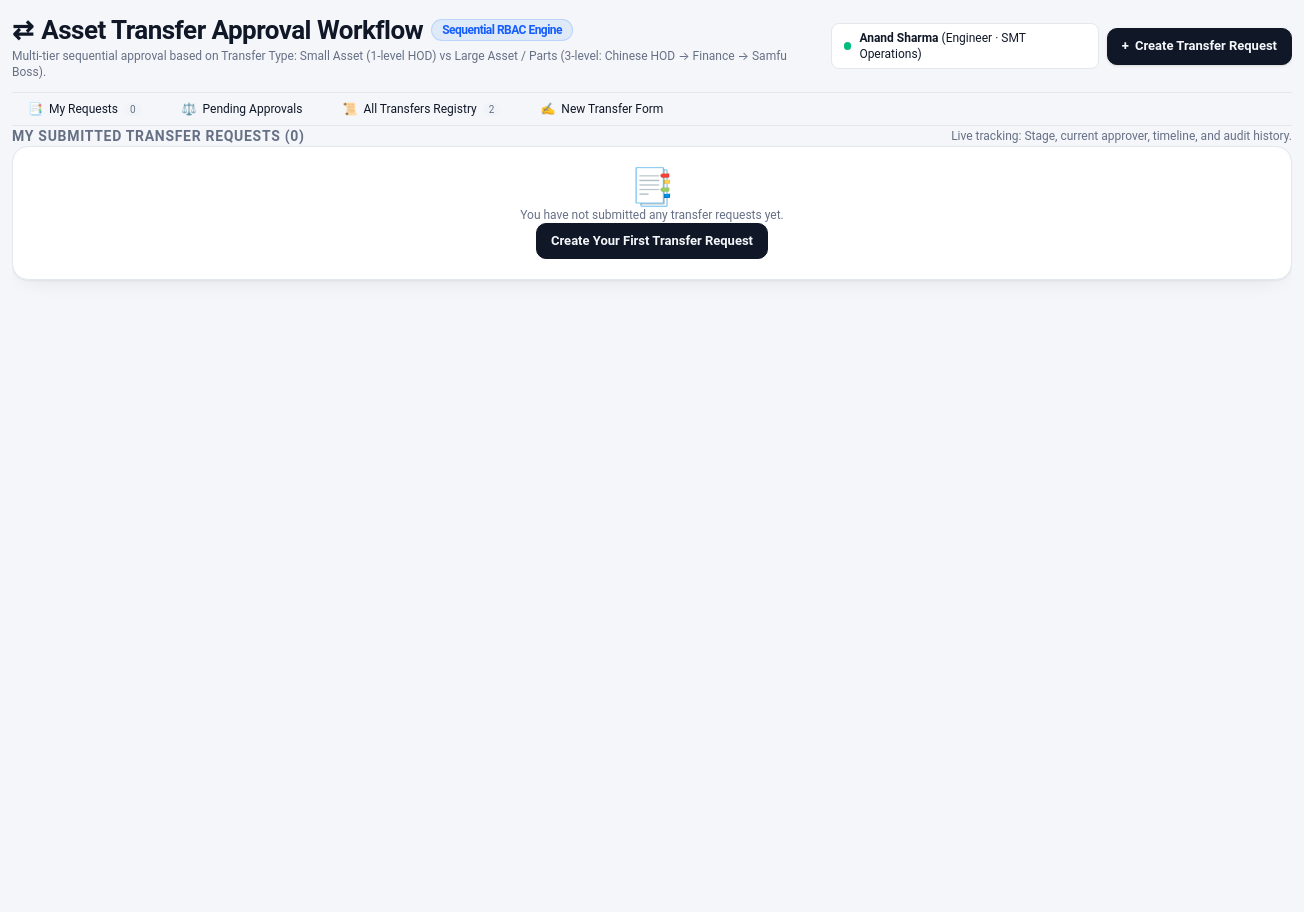
Test: Multi-User Role Asset Transfer Simulation › Flow 2: Large Asset 3-Level Sequential Approval (Requester -> Chinese HOD -> Finance -> Samfu Boss)
Later steps or results of the test are not shown.
Click the button "✍️ New Transfer Form" at point(602, 109), box [524,93,679,125]
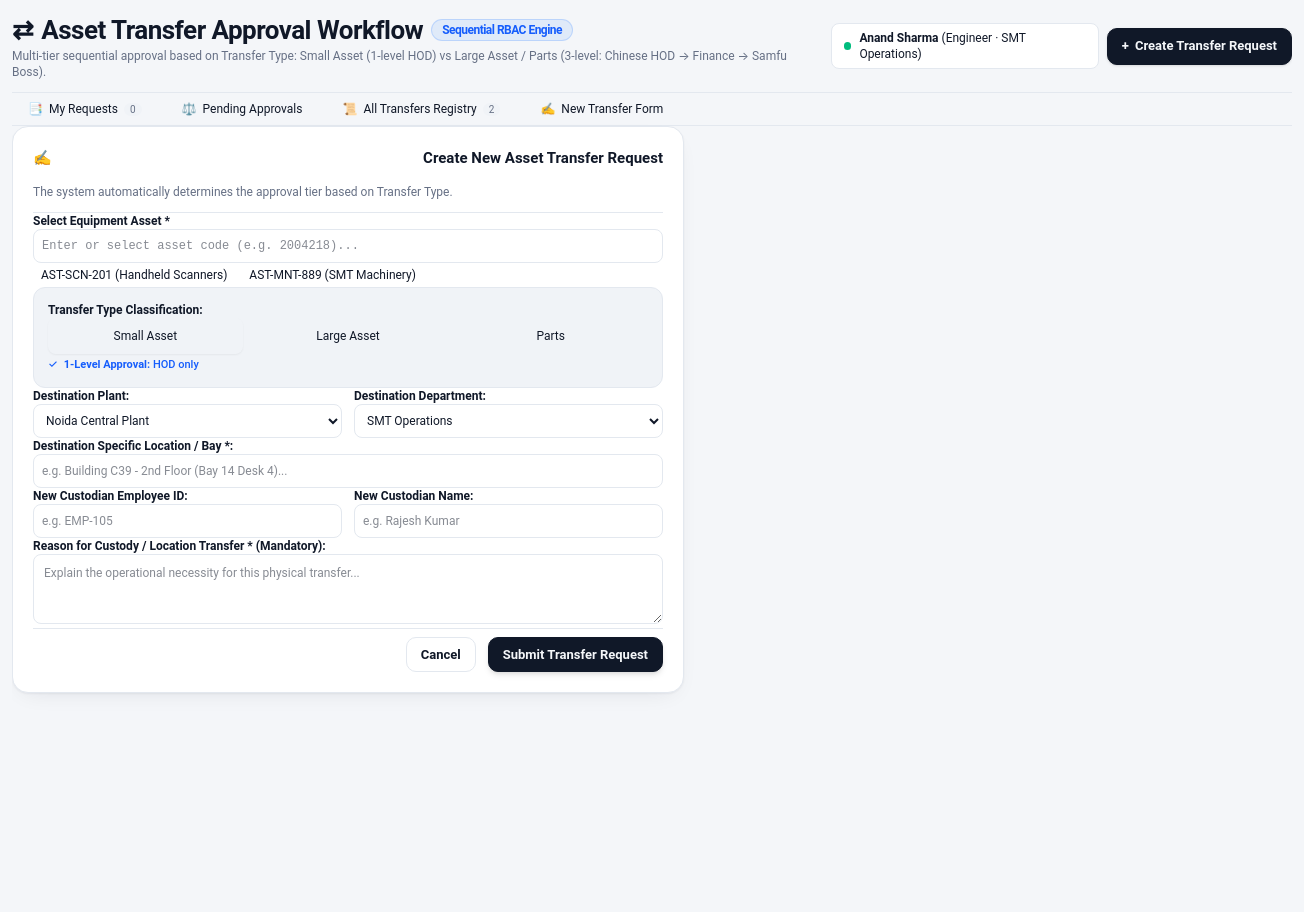
Click the button "AST-MNT-889 (SMT Machinery)" at point(333, 275), box [241,263,424,287]
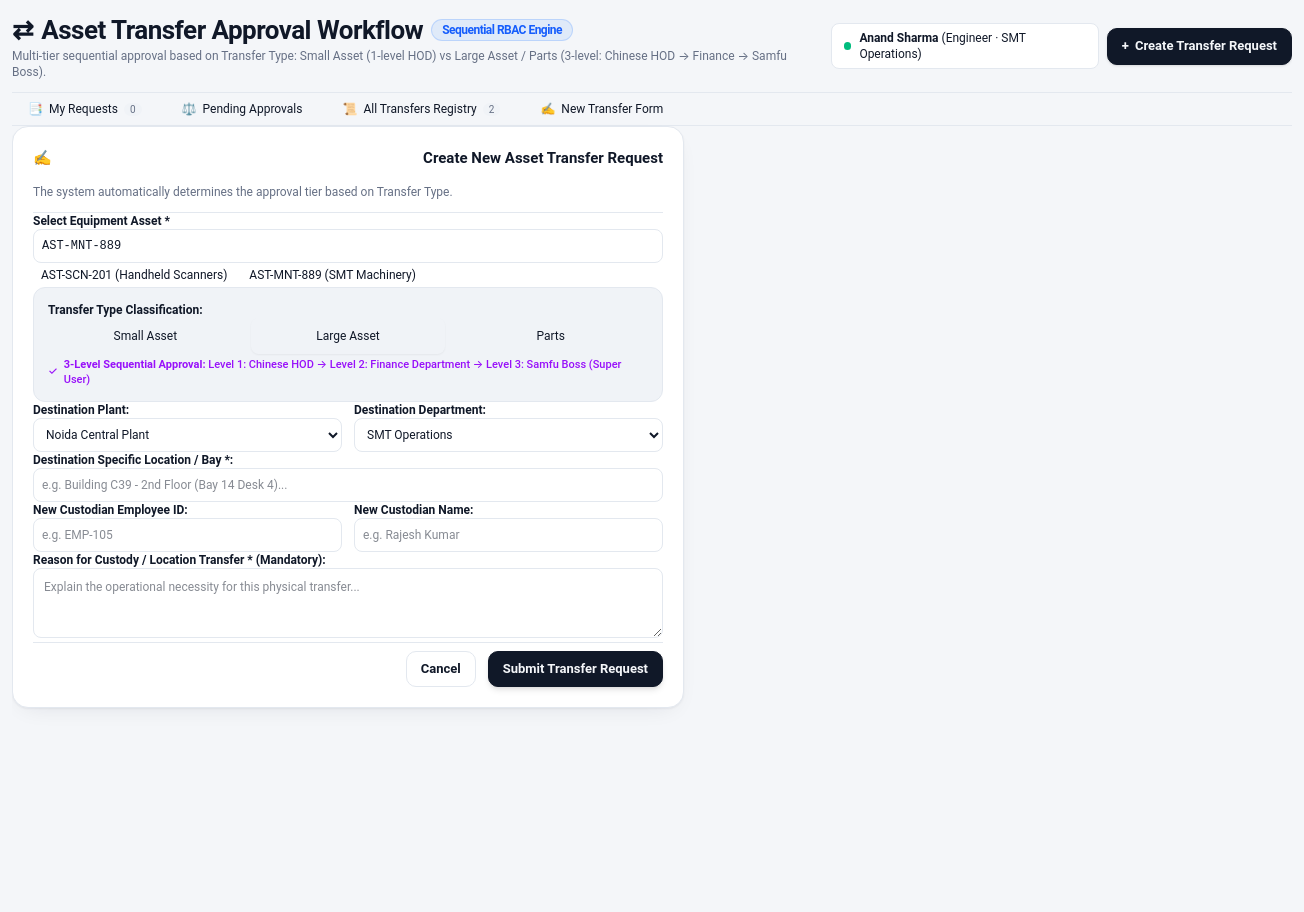
Result: the text "3-Level Sequential Approval:" is shown at [64,358,206,371]
Result: the text "Level 1: Chinese HOD → Level 2: Finance Department → Level 3: Samfu Boss" is shown at [64,358,621,386]
Type "D198-1F Line 4 Modular Bay" into the field with placeholder "e.g. Building C39 - 2nd Floor (Bay 14 Desk 4)..." at point(348, 485), box [33,468,663,502]
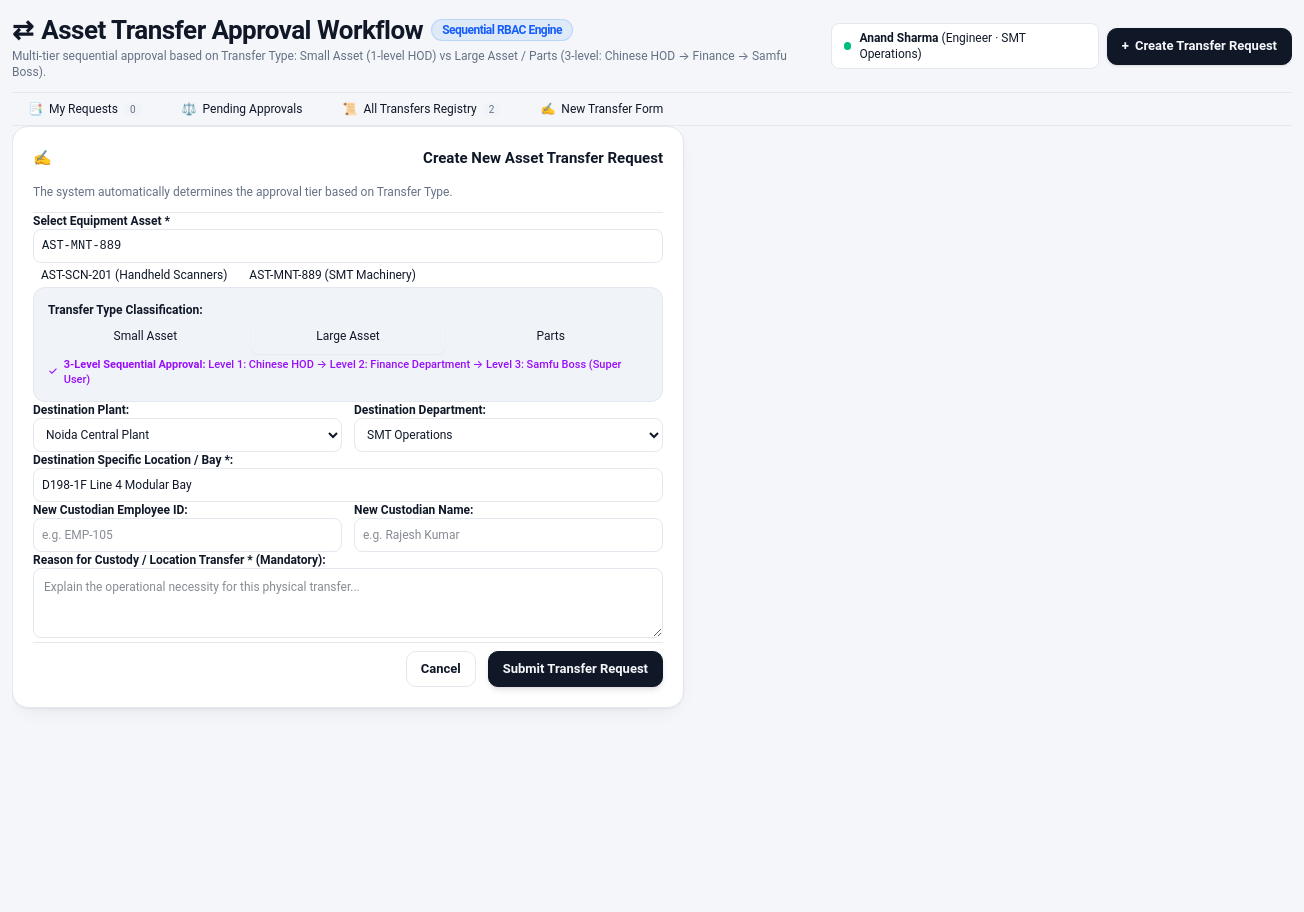
Replace the text in the text box with placeholder "Explain the operational necessity" with "High precision mounter re-allocated for Padget Project B production rush." at point(348, 603), box [33,568,663,638]
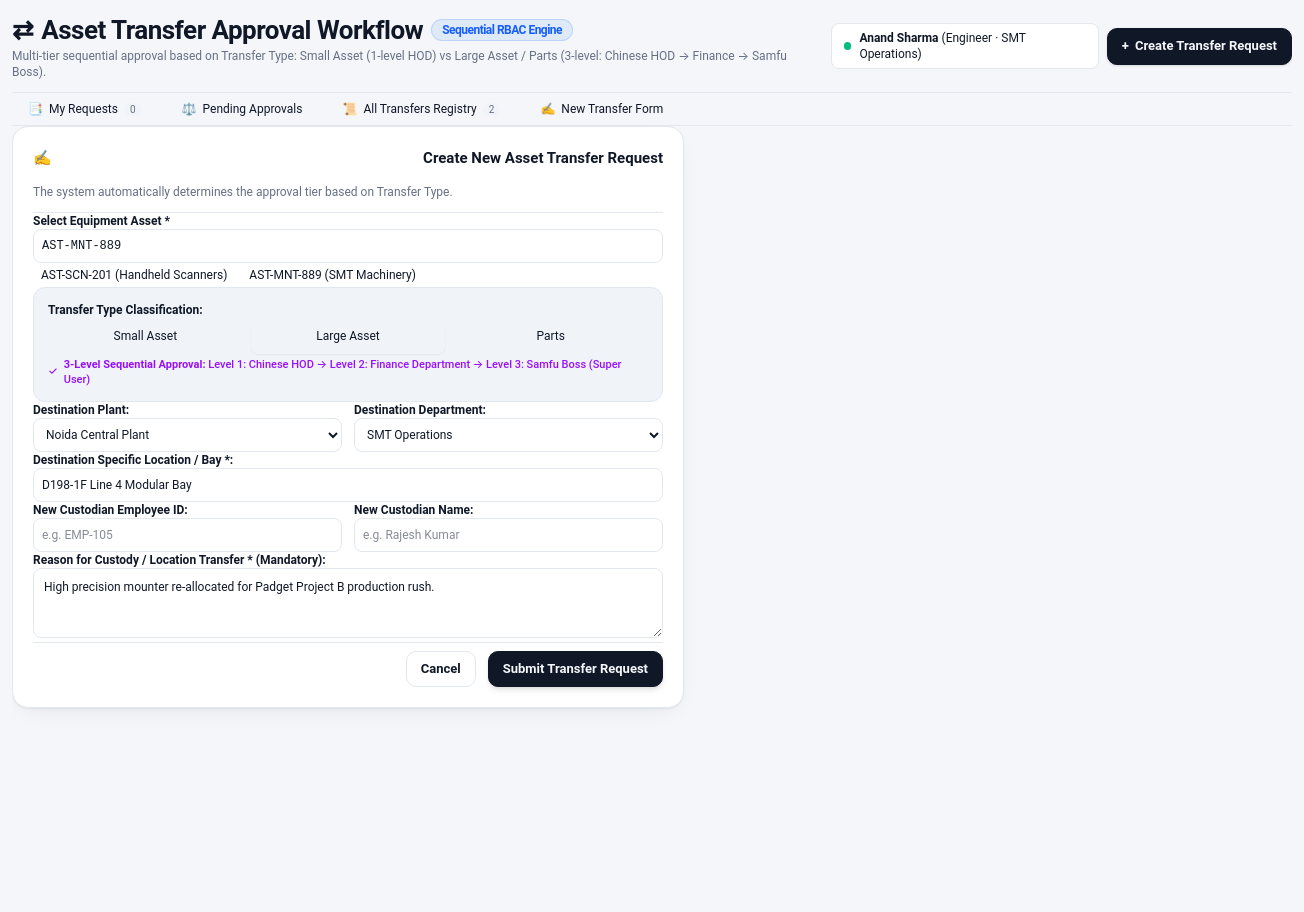
Click the button "Submit Transfer Request" at point(575, 669), box [488,651,663,686]
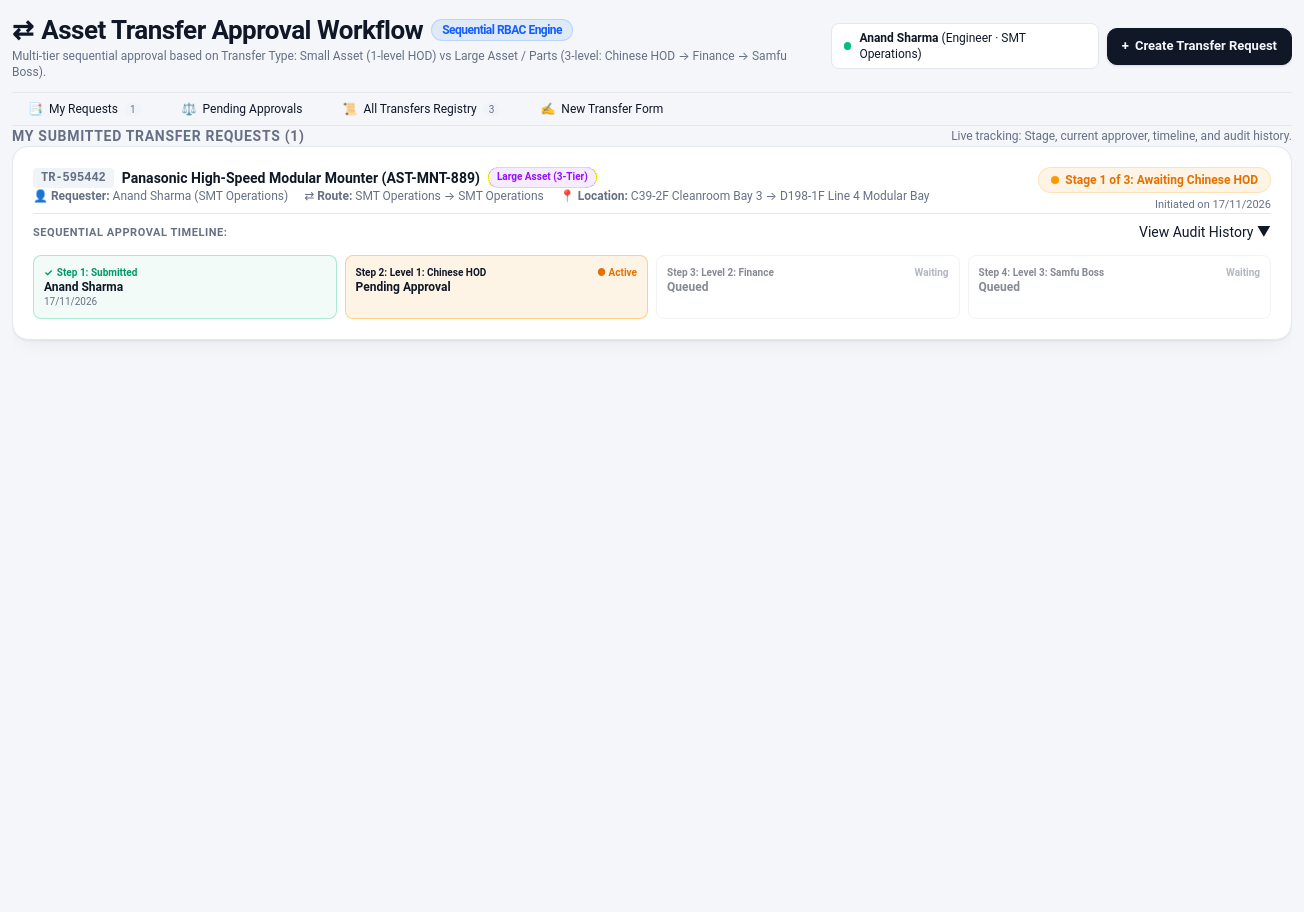
Result: the text "Stage 1 of 3: Awaiting Chinese HOD" is shown at [1065,172,1258,188]
